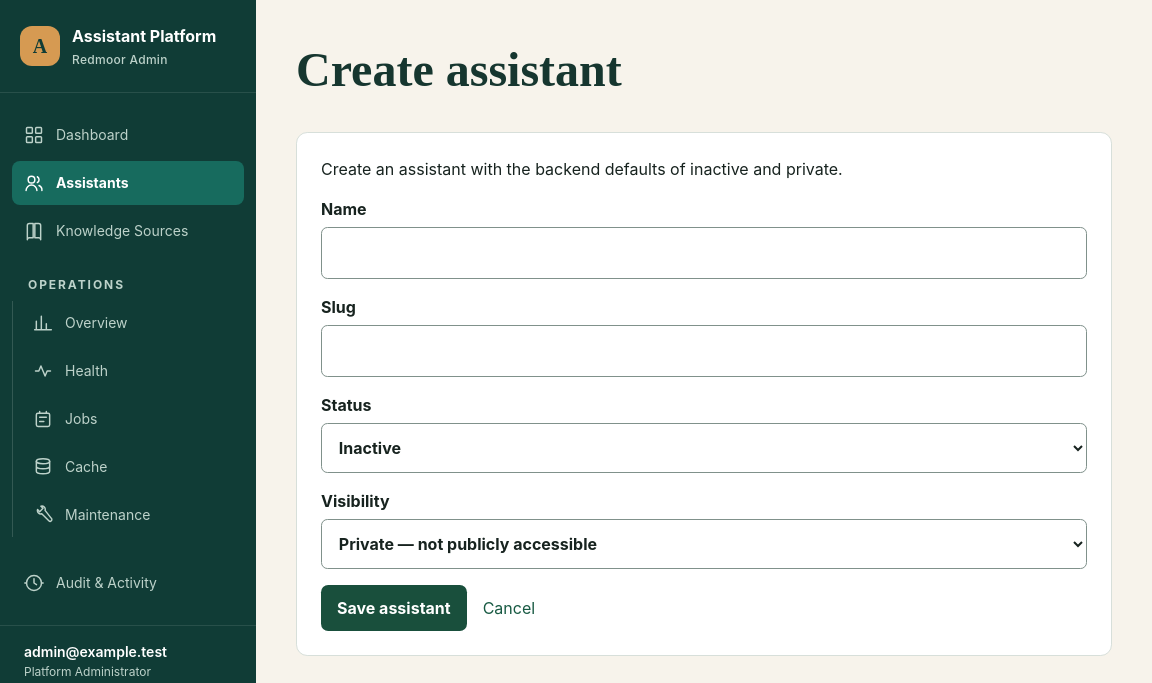
it: administrator application workflows › retains create values and errors without redirecting after a failed save
This screenshot has width=1152, height=683.
In the field labelled "Name": (704,253) left=321, top=227, right=1087, bottom=279, type "Legal review"
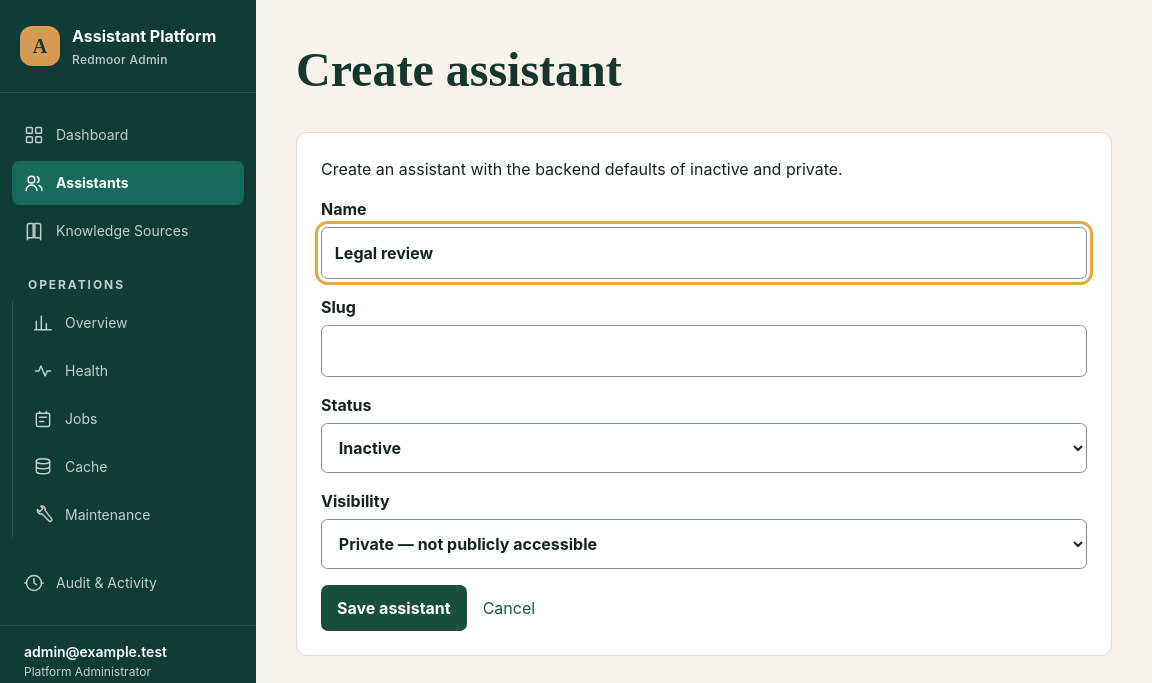
In the field labelled "Slug": (704,351) left=321, top=325, right=1087, bottom=377, type "legal-review"
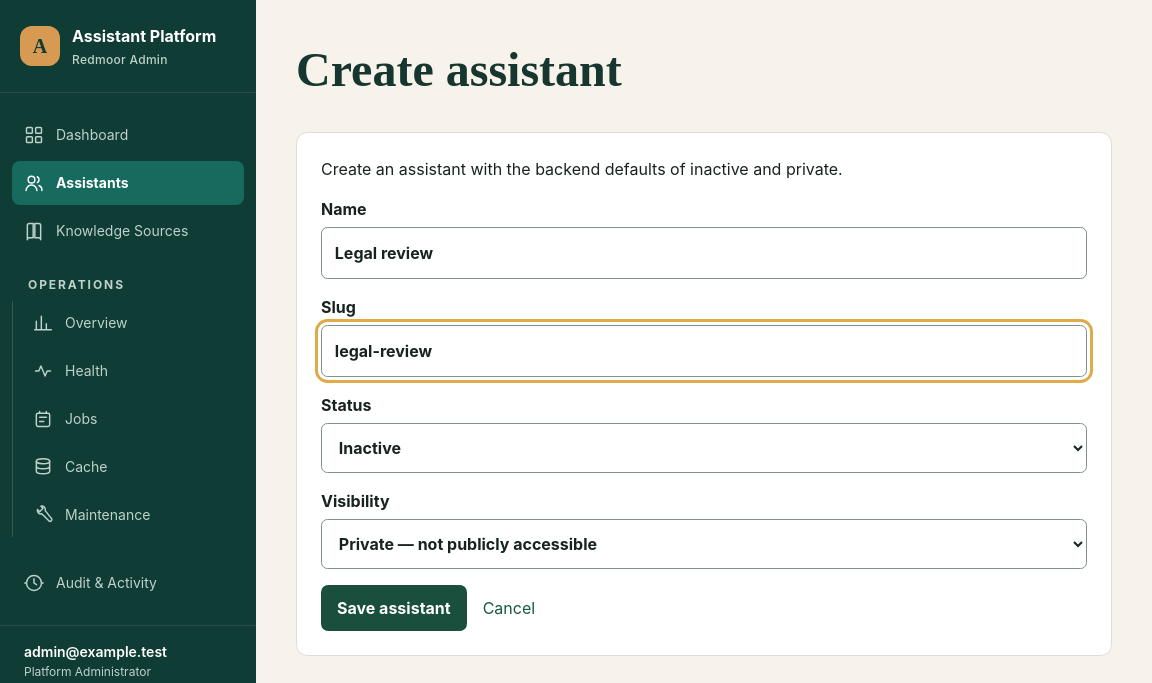
Click the button "Save assistant": (394,608) left=321, top=585, right=467, bottom=631
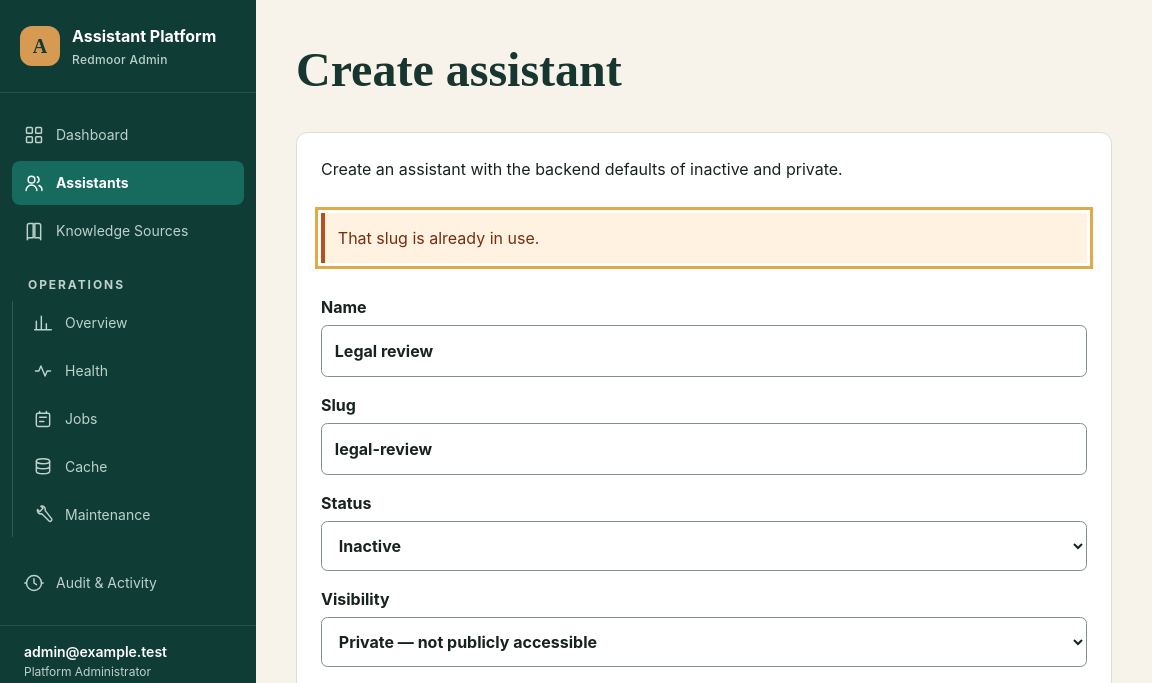
Expected: the heading "Create assistant" is shown, left=296, top=43, right=622, bottom=96
Now the message shows "slug is already in use", box left=338, top=228, right=539, bottom=248
